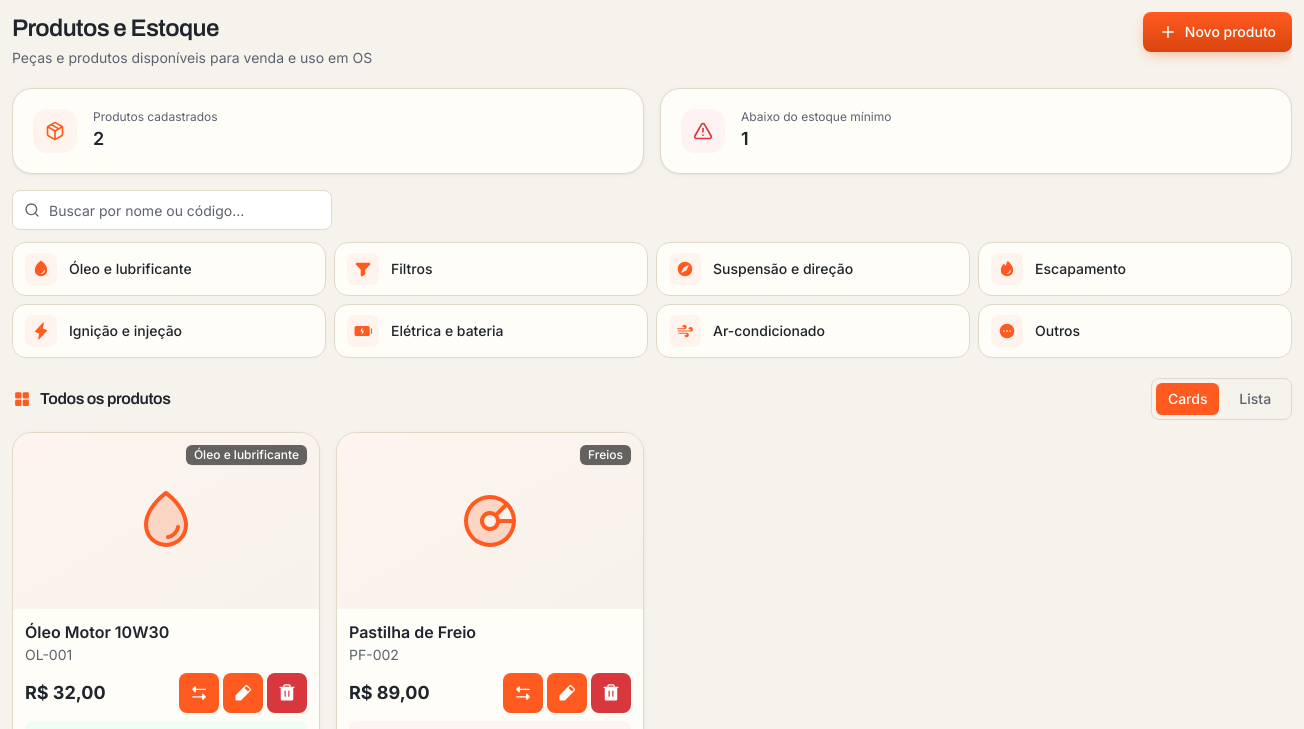
Test case: ProdutosPage › toggles the low-stock filtered view from its stat card
This screenshot has width=1304, height=729.
What coordinates should you click on to do the following:
click the button "Abaixo do estoque mínimo 1"
I would click on:
 (703, 131)
Its box is [660, 88, 1292, 174].
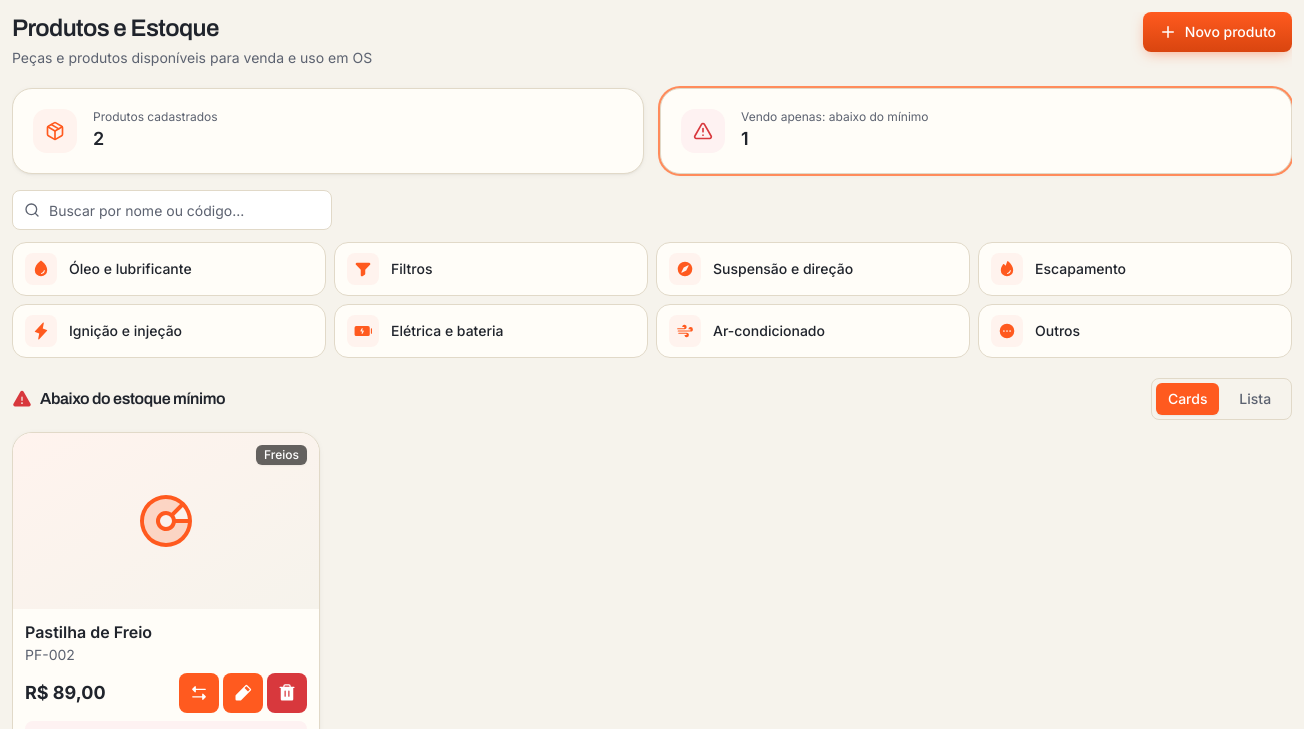
Check: the text "Pastilha de Freio" is shown, box [25, 622, 152, 642]
Check: the text "Óleo Motor 10W30" is gone
